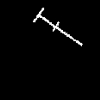double_crochet: (33, 8, 81, 45)
